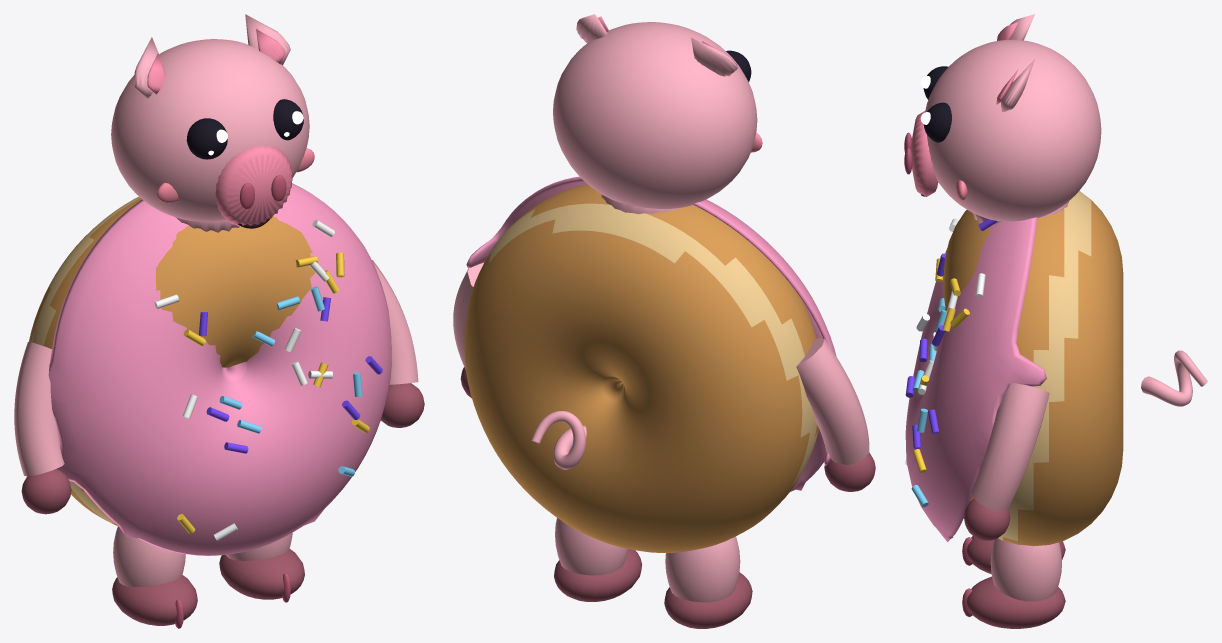
The model's file is pilot_gris2_smultring.glb.
3 renders of one model, left to right at view 1: azimuth 30°, elevation 25°; view 2: azimuth 150°, elevation 25°; view 3: azimuth 270°, elevation 25°, orthographic. The views are drawn at different scales.
Visible parts, largest first — view 1: kropp, hode, vinge_v, bein_vf, bein_hf, vinge_h; view 2: kropp, hode, vinge_v, bein_vf, bein_hf, hale, vinge_h; view 3: kropp, hode, vinge_h, bein_hf, hale, bein_vf.
Boxes of the visible parts, x1,y1,x2,y2 form: kropp: (29,183,391,555); hode: (111,14,314,232); vinge_v: (14,342,71,514); bein_vf: (112,526,197,628); bein_hf: (219,533,304,602); vinge_h: (372,260,424,427); kropp: (464,176,836,552); hode: (553,14,762,214); vinge_v: (796,338,875,491); bein_vf: (664,536,752,628); bein_hf: (554,518,642,601); hale: (531,411,586,469); vinge_h: (453,262,483,398); kropp: (905,191,1123,546); hode: (904,14,1101,224); vinge_h: (964,382,1049,540); bein_hf: (962,538,1065,628); hale: (1141,350,1207,406); bein_vf: (962,536,1065,574).
Size of the model in its own units: 1.26 by 1.74 by 0.8496.
